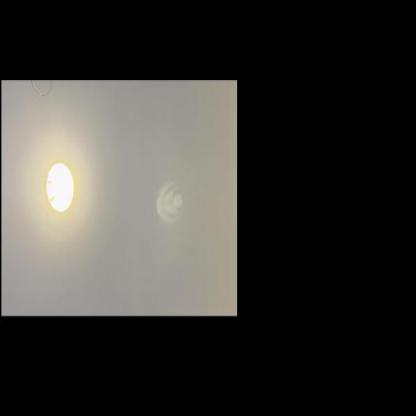light_on: (40, 154, 80, 221)
